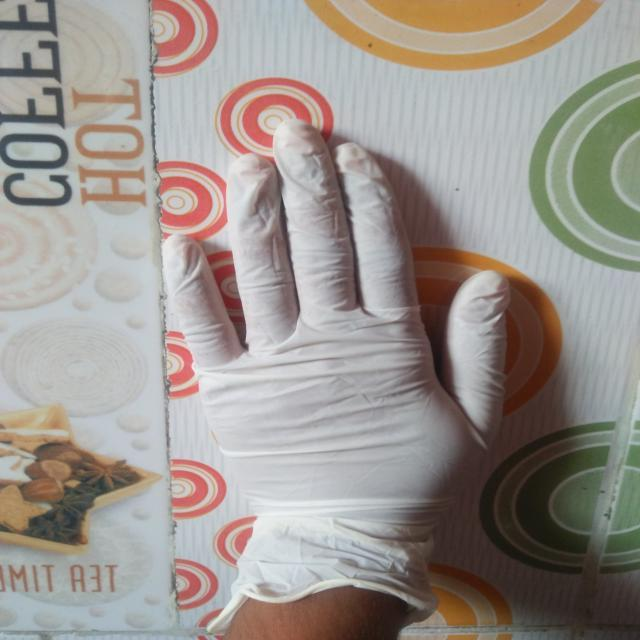gloved_hand: (151, 120, 525, 630)
